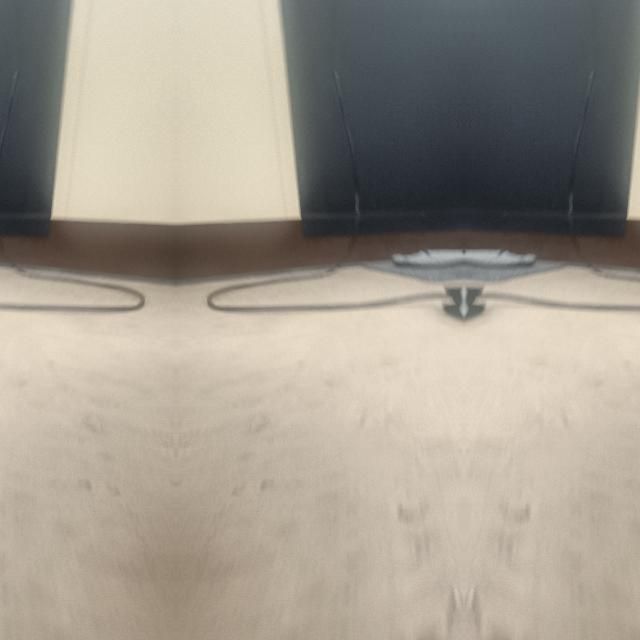obstacle: (203, 263, 457, 313), (470, 263, 640, 313), (0, 263, 147, 313)
